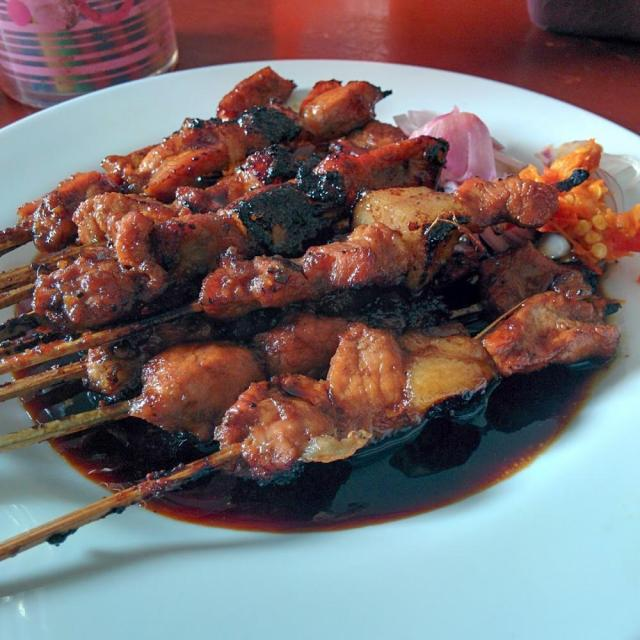Sate: (0, 124, 571, 570)
